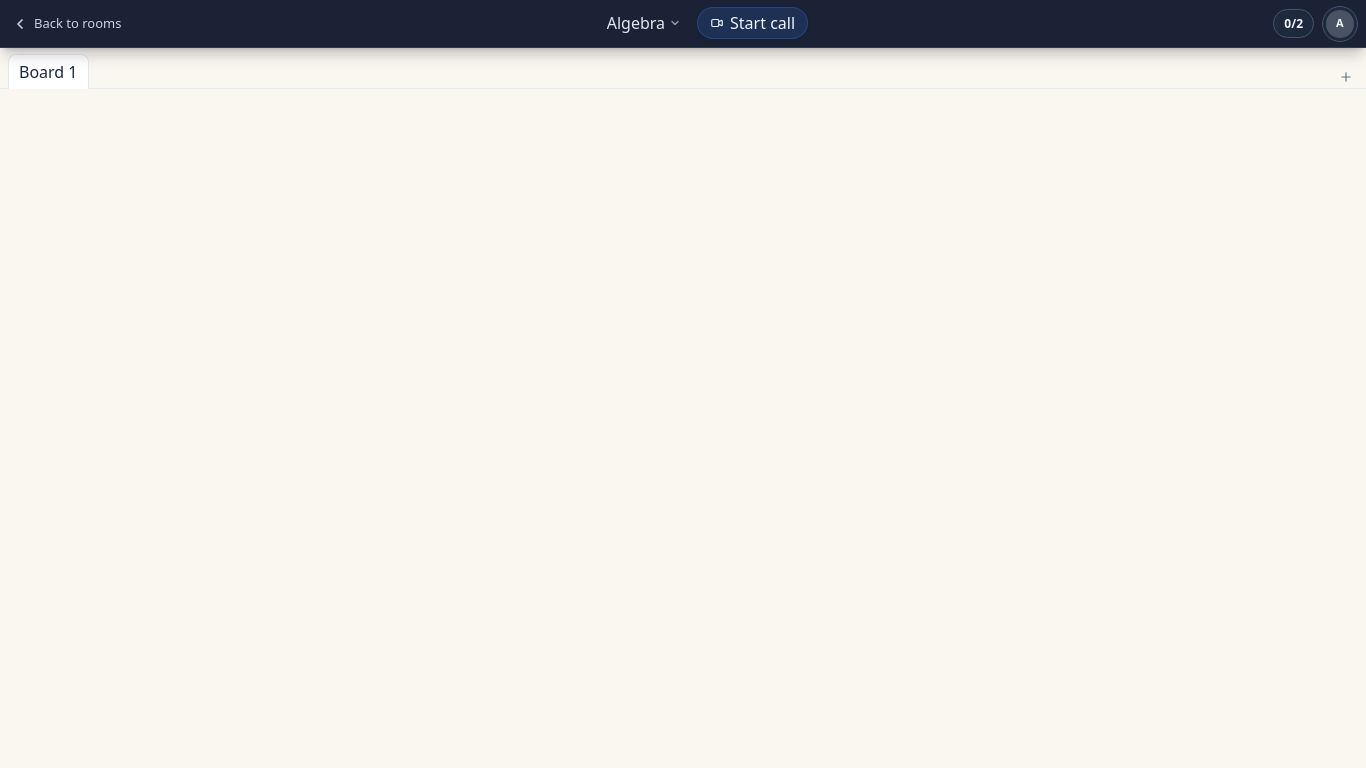
Test: RoomContent room title › renames the room from the title menu and posts the new name
Step 1. Click the button with test id "room-title-trigger" → (644, 24), box x1=599 y1=6 x2=689 y2=41
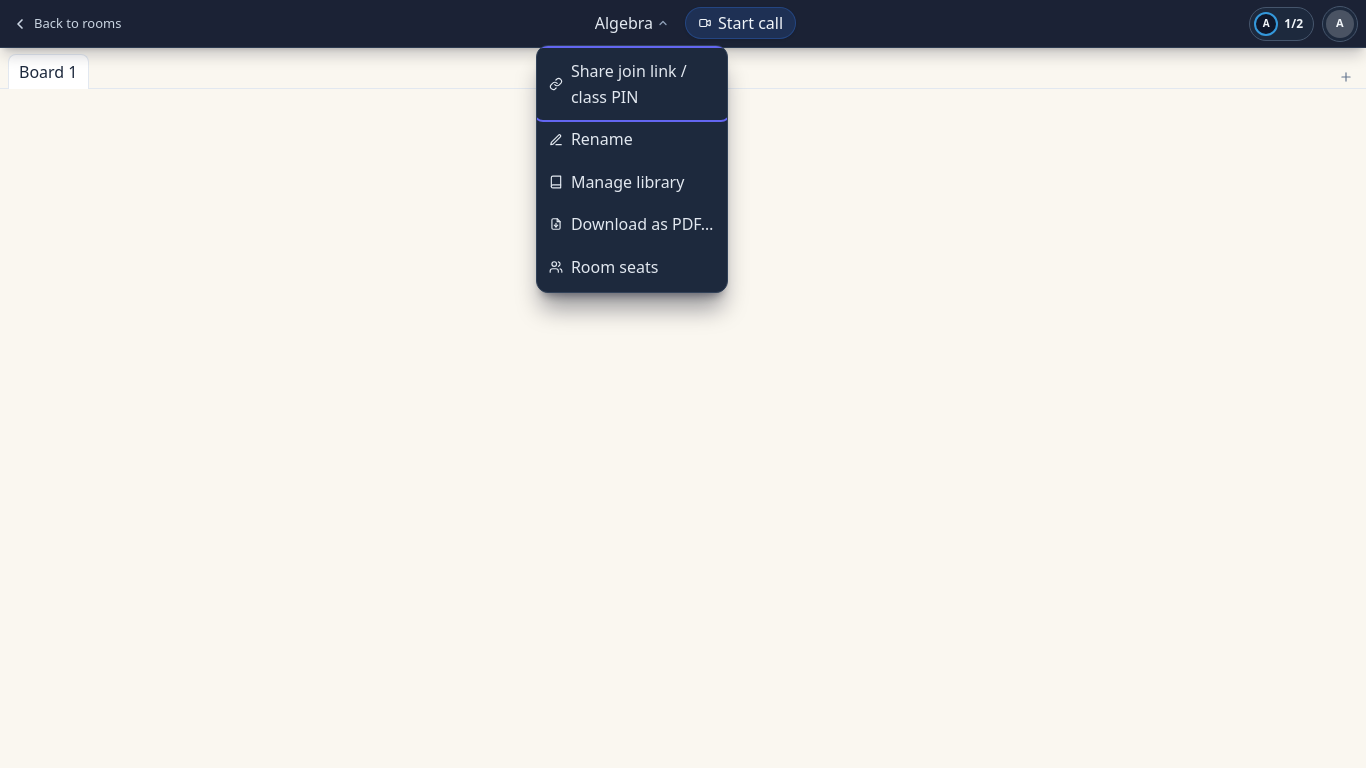
Step 2. Click the menu item with test id "room-menu-rename" → (632, 140), box x1=537 y1=118 x2=727 y2=161
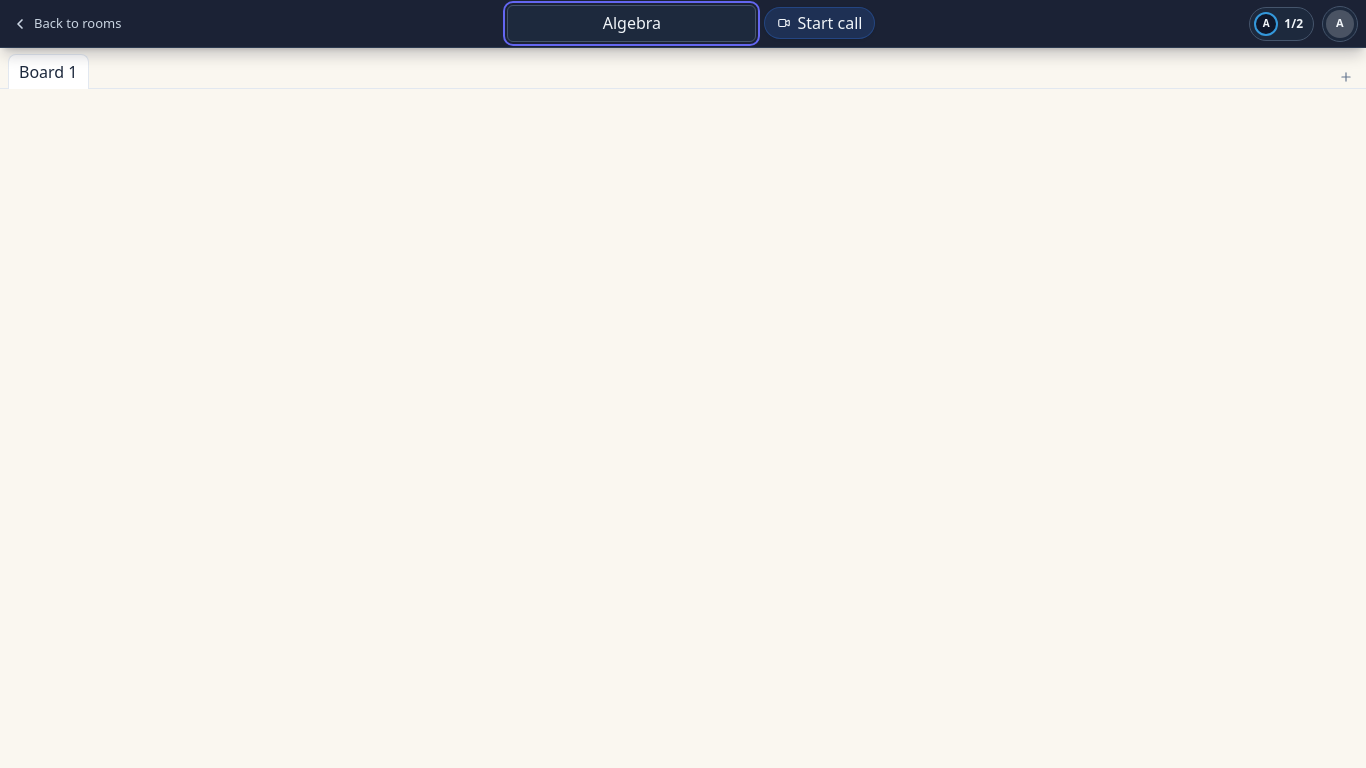
Step 3. Replace the text in the field with test id "room-name-input" with "Geometry" → (632, 24), box x1=507 y1=5 x2=756 y2=42
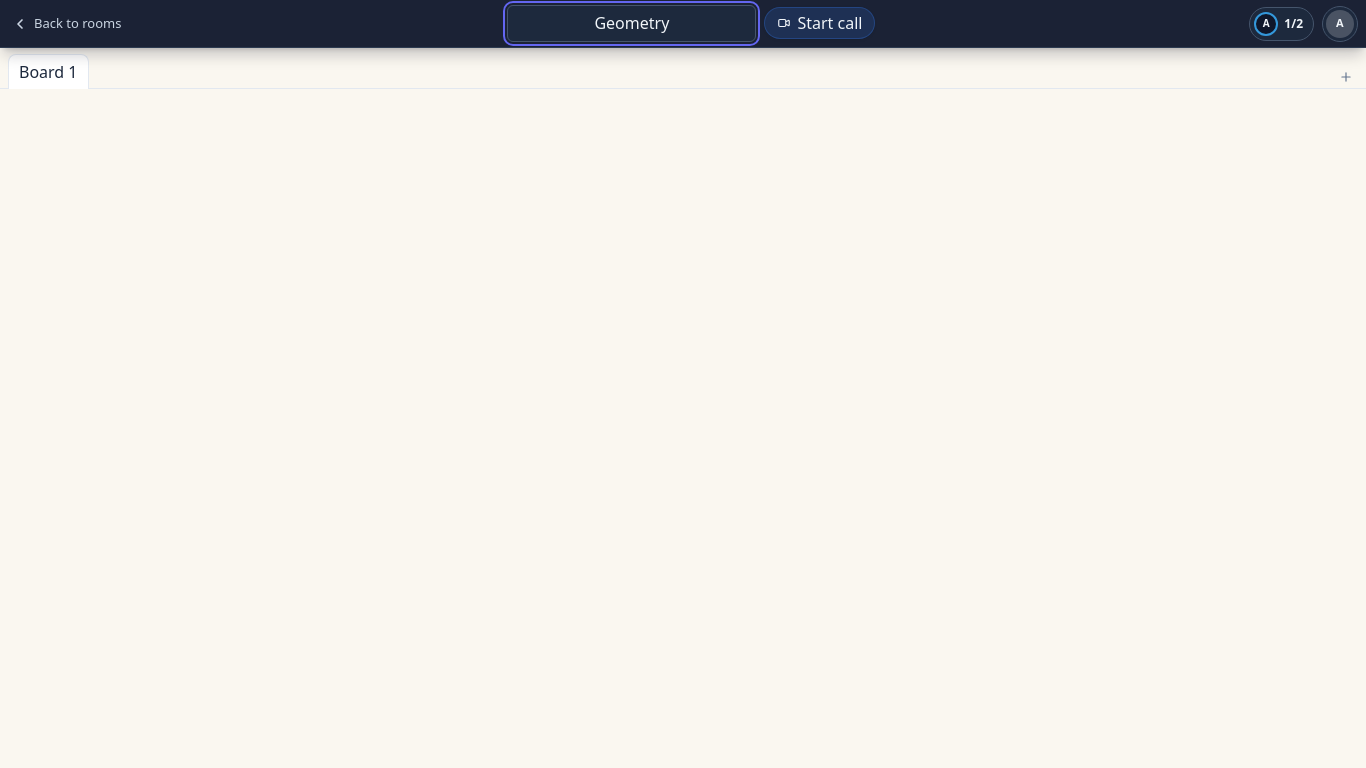
Step 4. Press Enter in the field with test id "room-name-input", box x1=507 y1=5 x2=756 y2=42
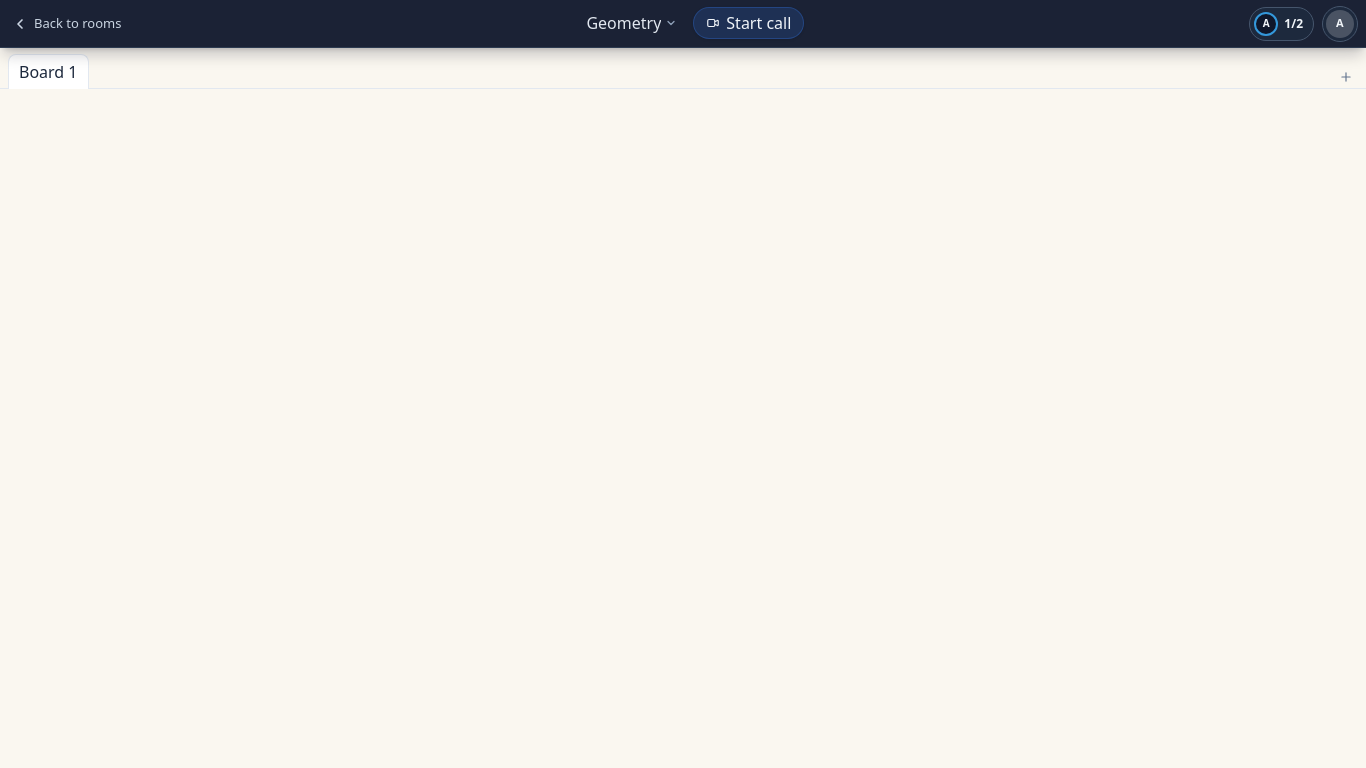
Now the text with test id "room-name" reads "Geometry", box x1=586 y1=12 x2=661 y2=34
